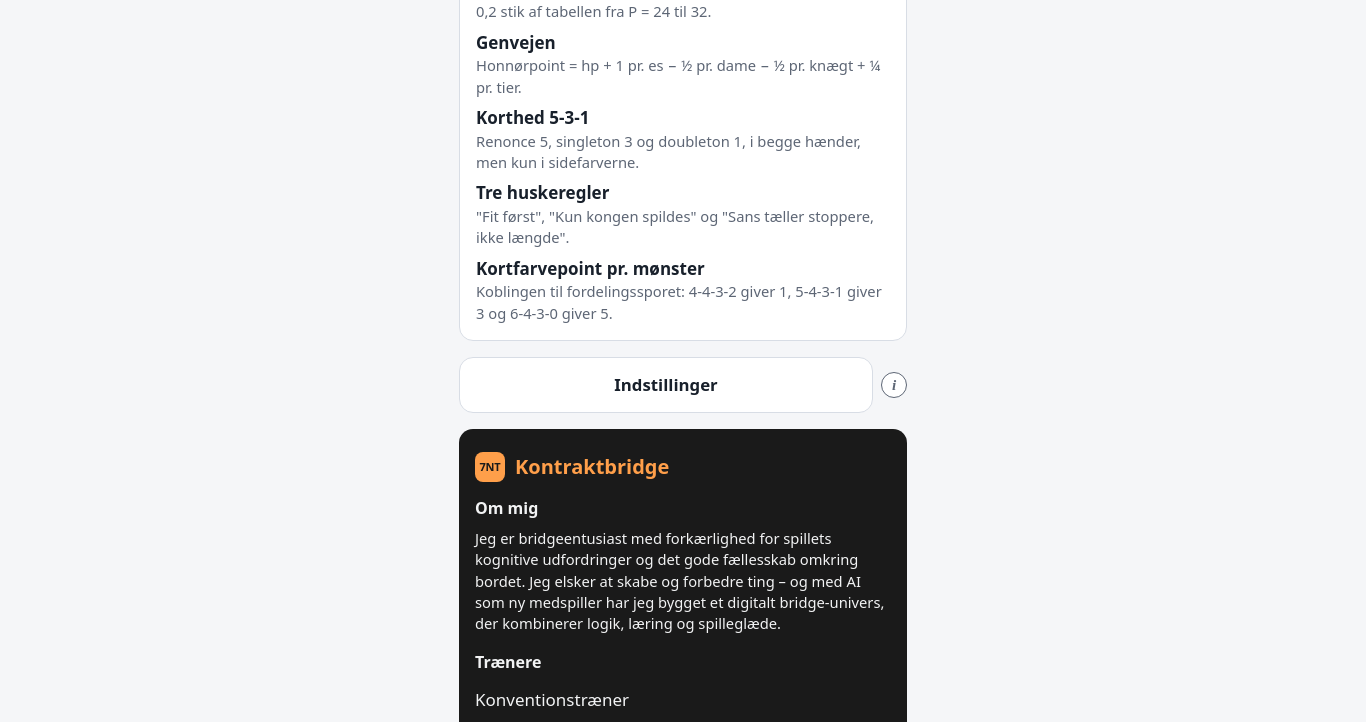
Håndevaluering › forsiden viser dagens plan, husketeknikkerne og indstillinger; et kig skriver intet
This screenshot has width=1366, height=722.
(page scrolled)
Click the button "Indstillinger" at (666, 385), box x1=459 y1=357 x2=873 y2=413
(page scrolled)
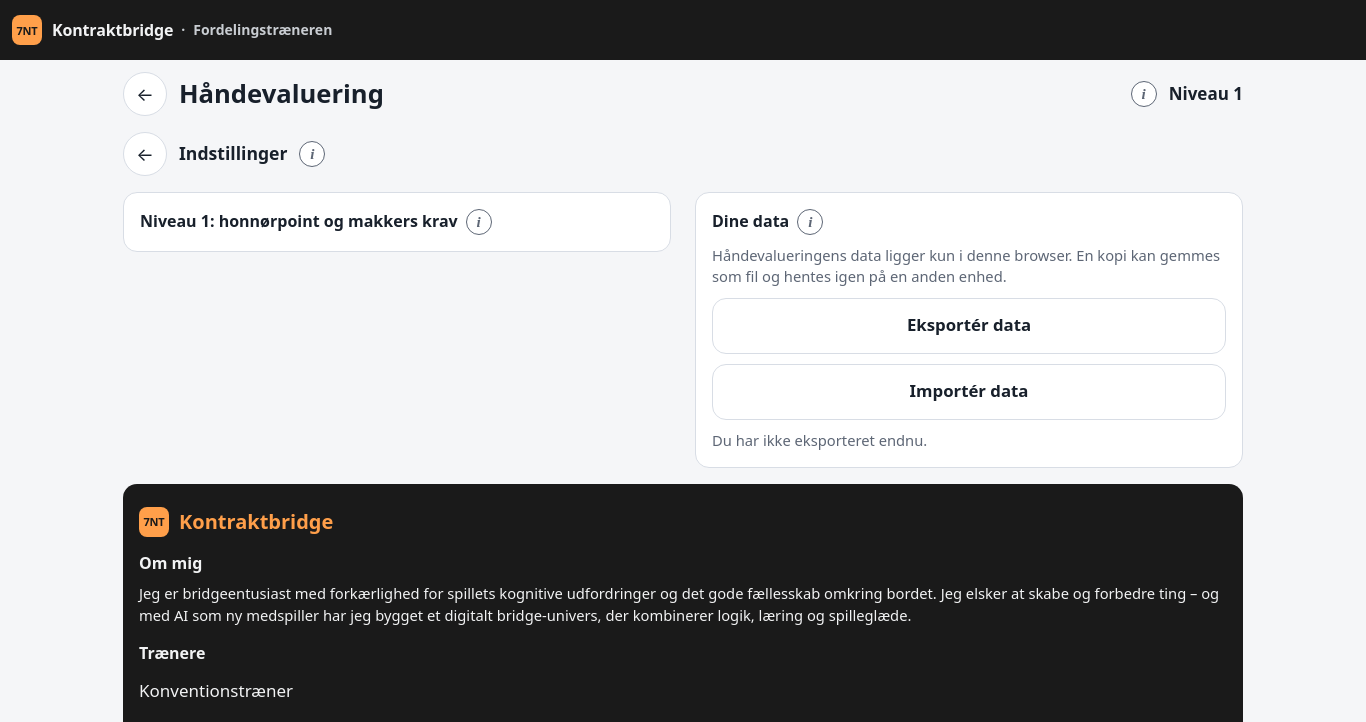
Now the heading "Dine data" is shown, box x1=712 y1=210 x2=789 y2=234
Click the button named "Tilbage til Håndevaluering" at (145, 154), box x1=123 y1=132 x2=167 y2=176
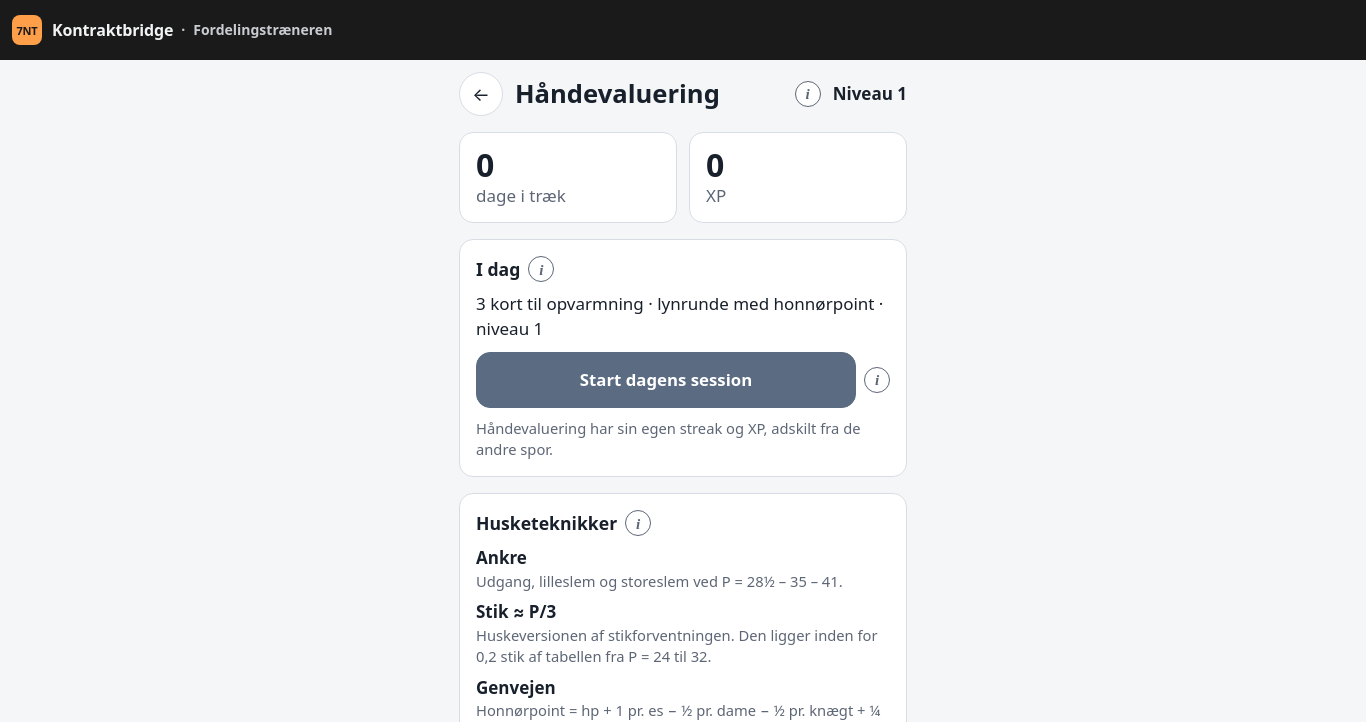
Now the button "Start dagens session" is shown, box x1=476 y1=352 x2=856 y2=408
